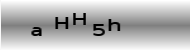5: (92, 22, 106, 37)
H: (54, 15, 70, 30), (72, 11, 87, 26)
a: (30, 26, 44, 37)
h: (108, 18, 121, 33)
